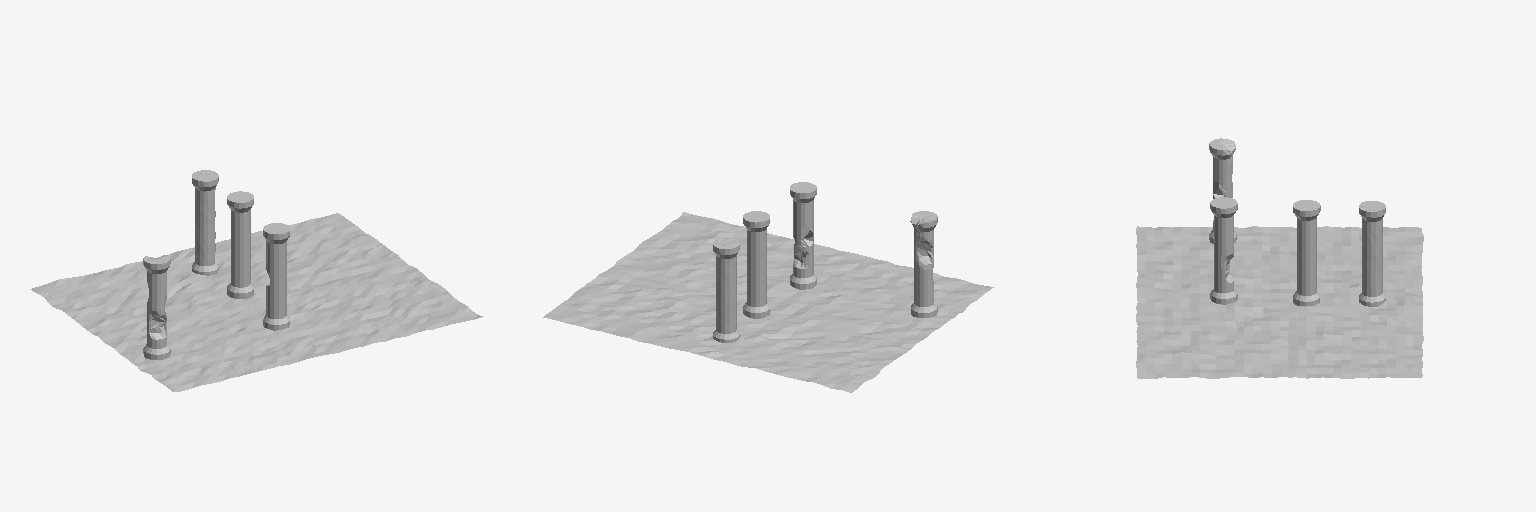
File: Pilastra 1.obj
The picture shows the model from 3 angles: view 1: azimuth 30°, elevation 25°; view 2: azimuth 150°, elevation 25°; view 3: azimuth 270°, elevation 25°; orthographic projection.
Parts seen in each view (by area): view 1: Grama_Plane.001, Pilastra_1_Cylinder.001, Pilastra_3_Cylinder, Pilastra_3.003_Cylinder.025, Pilastra_2_Cylinder.002; view 2: Grama_Plane.001, Pilastra_1_Cylinder.001, Pilastra_3.003_Cylinder.025, Pilastra_3_Cylinder, Pilastra_2_Cylinder.002; view 3: Grama_Plane.001, Pilastra_3.003_Cylinder.025, Pilastra_3_Cylinder, Pilastra_1_Cylinder.001, Pilastra_2_Cylinder.002.
Part boxes in pixels (x1,y1,x2,y2): Grama_Plane.001: (31,213,482,391); Pilastra_1_Cylinder.001: (263,223,289,330); Pilastra_3_Cylinder: (227,191,253,298); Pilastra_3.003_Cylinder.025: (192,170,218,275); Pilastra_2_Cylinder.002: (143,255,170,359); Grama_Plane.001: (543,212,993,392); Pilastra_1_Cylinder.001: (790,182,816,289); Pilastra_3.003_Cylinder.025: (713,238,739,342); Pilastra_3_Cylinder: (743,211,769,318); Pilastra_2_Cylinder.002: (910,211,937,317); Grama_Plane.001: (1136,226,1423,378); Pilastra_3.003_Cylinder.025: (1359,201,1385,306); Pilastra_3_Cylinder: (1293,200,1320,306); Pilastra_1_Cylinder.001: (1210,197,1237,304); Pilastra_2_Cylinder.002: (1209,138,1236,243).
Size of the model in its own units: 34.63 by 10.51 by 27.72.